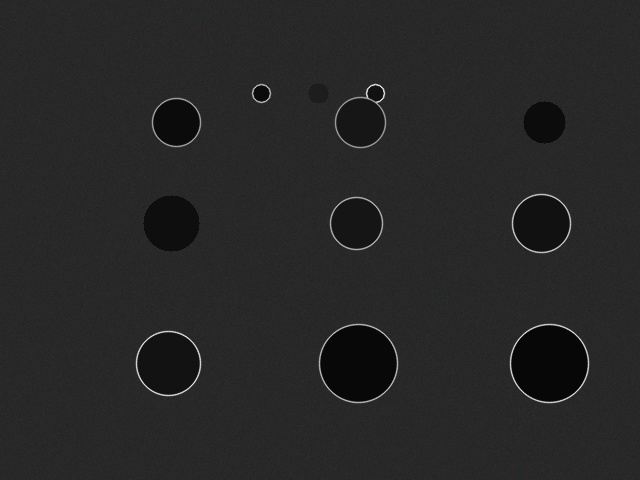hole: (319, 324, 397, 402), (510, 324, 588, 402), (136, 331, 200, 395), (512, 194, 570, 252), (143, 195, 199, 251), (330, 197, 382, 249), (335, 97, 385, 147), (152, 98, 200, 146), (523, 101, 565, 143), (308, 83, 328, 103), (252, 84, 270, 102), (366, 84, 384, 102)
